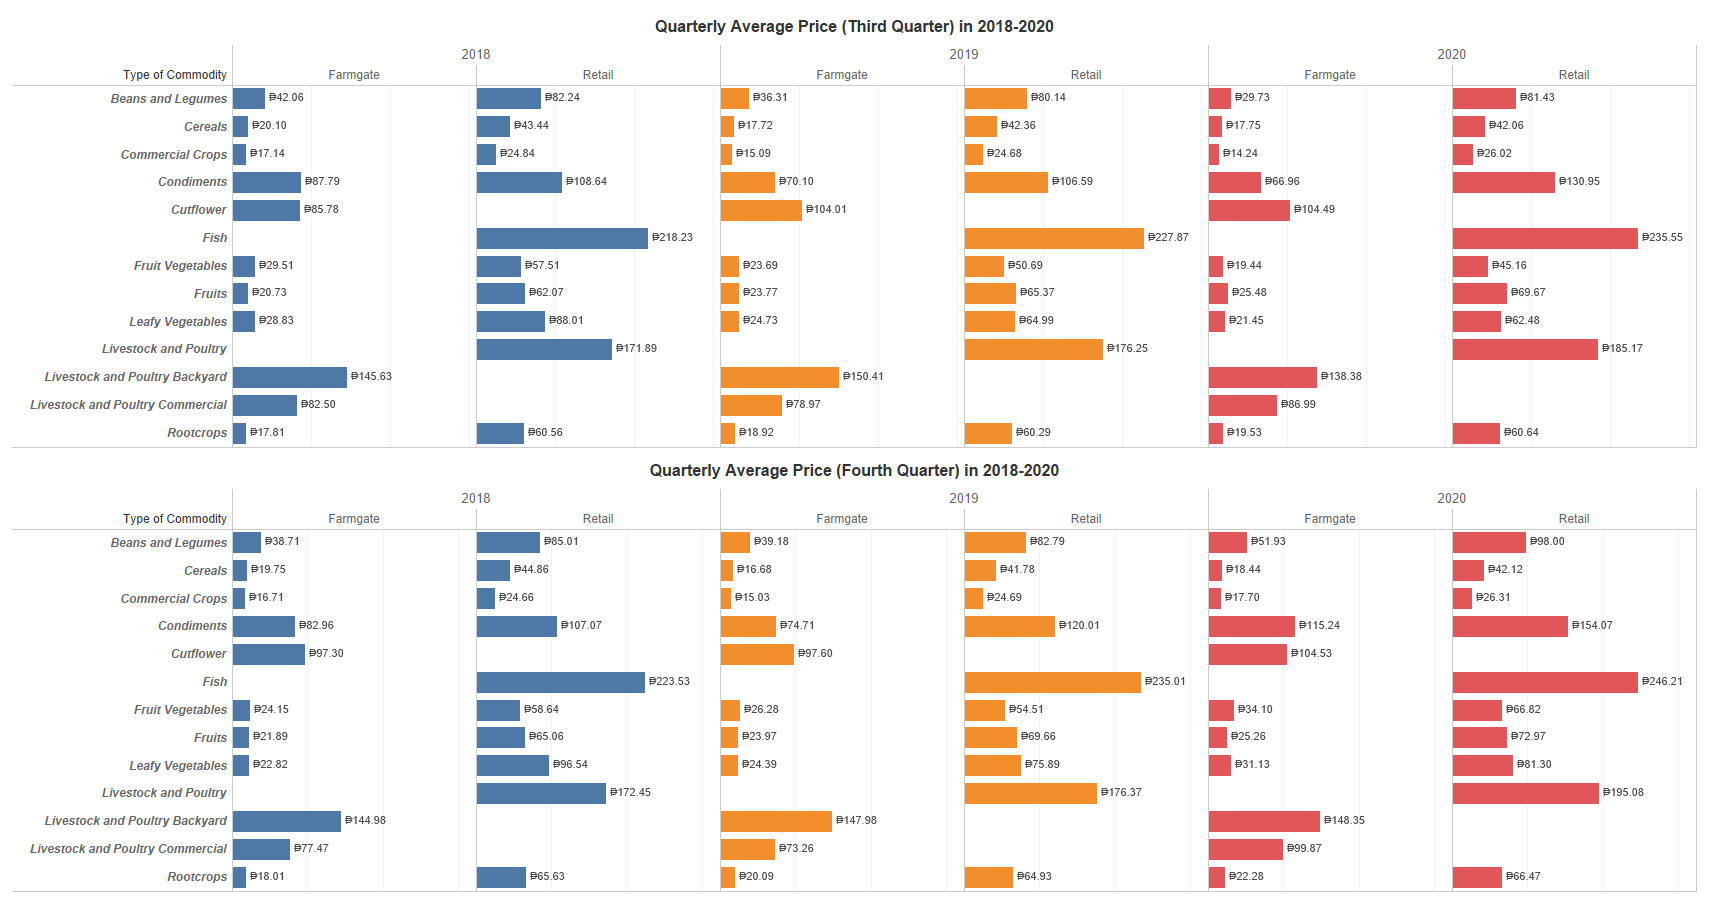

The page's visual inventory and layout, read from the dashboard file:
{"tool":"tableau","page":{"name":"Objective 1.2","canvas":[1000,1000],"units":"permille","ordinal":1},"visuals":[{"type":"worksheet","title":"Quarter 3 Average price","mark":"Bar","rows":["Type of Commodity"],"cols":["Date","Pricing Series","Calculation_2516104862593413128"],"box":[4.7,8.8,990.6,491.2]},{"type":"worksheet","title":"Quarter 4 Average price","mark":"Bar","rows":["Type of Commodity"],"cols":["Date","Pricing Series","Calculation_2516104862592942087"],"box":[4.7,500,990.6,491.2]}]}

Visuals, with their boxes on the dashboard's canvas, which has no fixed pixel size, in thousandths of its width and height (x1, y1, x2, y2). These are canvas units, not pixel positions in the 1709x904 screenshot, which may show the page scaled, cropped or inside an application window:
"Quarter 3 Average price" worksheet (Bar marks): region(5, 9, 995, 500)
"Quarter 4 Average price" worksheet (Bar marks): region(5, 500, 995, 991)
